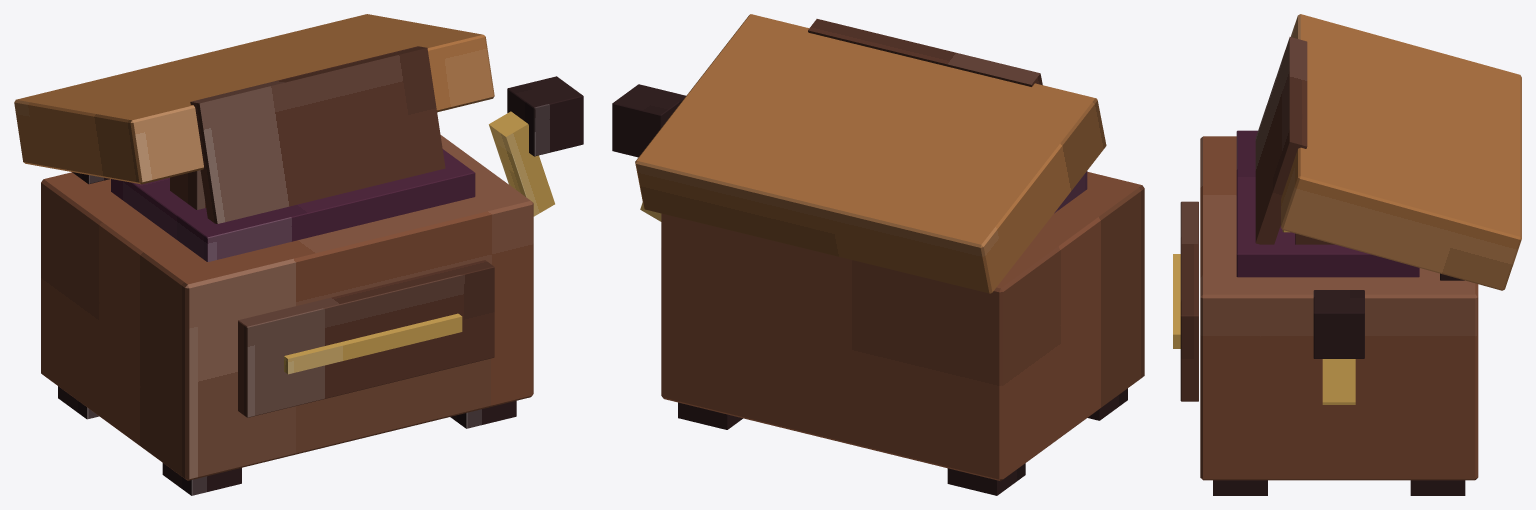
File: music_box.glb
The picture shows the model from 3 angles, left to right: view 1: azimuth 30°, elevation 25°; view 2: azimuth 150°, elevation 25°; view 3: azimuth 270°, elevation 25°; orthographic projection. The views are drawn at different scales.
Visible parts, largest first — view 1: BoxBody, OpenLid, LidInset, FrontInset, VelvetWell, CrankKnob, FrontGoldLine, CrankArm, BlockFoot_1, CylinderPost_L, BlockFoot_3; view 2: BoxBody, OpenLid, LidInset, CrankKnob, BlockFoot_2, BlockFoot_4; view 3: BoxBody, OpenLid, VelvetWell, LidInset, FrontInset, CrankKnob, CrankArm, BlockFoot_4, BlockFoot_3, FrontGoldLine.
Boxes of the visible parts, x1,y1,x2,y2 form: BoxBody: [41, 135, 533, 480]; OpenLid: [14, 14, 494, 184]; LidInset: [190, 46, 445, 223]; FrontInset: [238, 260, 494, 417]; VelvetWell: [111, 149, 475, 261]; CrankKnob: [507, 76, 583, 156]; FrontGoldLine: [284, 313, 462, 374]; CrankArm: [489, 111, 554, 216]; BlockFoot_1: [162, 463, 241, 495]; CylinderPost_L: [170, 170, 205, 209]; BlockFoot_3: [450, 401, 516, 428]; BoxBody: [661, 171, 1144, 481]; OpenLid: [635, 14, 1106, 293]; LidInset: [808, 19, 1042, 86]; CrankKnob: [612, 84, 685, 157]; BlockFoot_2: [947, 463, 1025, 495]; BlockFoot_4: [678, 402, 742, 429]; BoxBody: [1200, 136, 1478, 480]; OpenLid: [1281, 14, 1521, 290]; VelvetWell: [1236, 130, 1419, 277]; LidInset: [1255, 37, 1307, 244]; FrontInset: [1180, 201, 1198, 401]; CrankKnob: [1313, 290, 1364, 358]; CrankArm: [1322, 359, 1355, 402]; BlockFoot_4: [1410, 480, 1465, 495]; BlockFoot_3: [1213, 480, 1267, 495]; FrontGoldLine: [1173, 254, 1180, 348].
Size of the model in its own units: 0.6875 by 0.5002 by 0.4766.
Materials: 1 (1 with a texture image).
